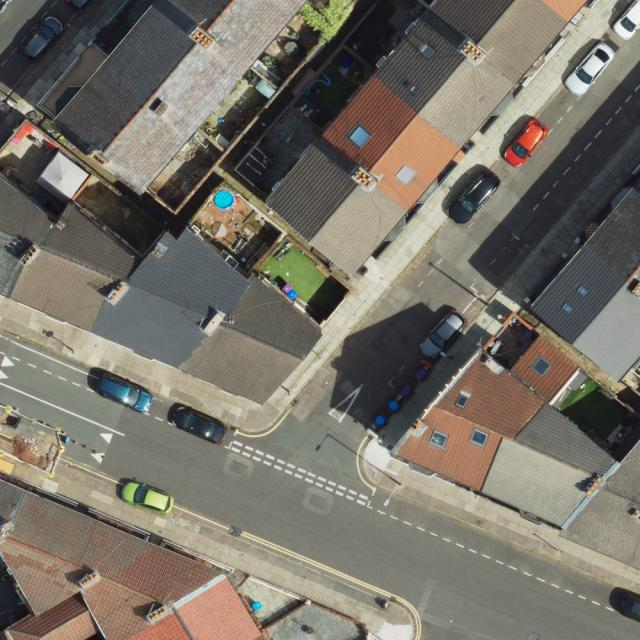roof: (264, 0, 586, 275), (0, 172, 324, 406), (390, 337, 640, 571), (54, 3, 307, 197), (0, 481, 260, 640), (527, 174, 640, 383)
skylight: (345, 120, 375, 149), (394, 161, 419, 188), (426, 427, 451, 453), (417, 39, 440, 62), (467, 427, 490, 449), (533, 356, 552, 379), (454, 388, 472, 412), (562, 299, 576, 315), (407, 82, 421, 97), (576, 285, 588, 299)
